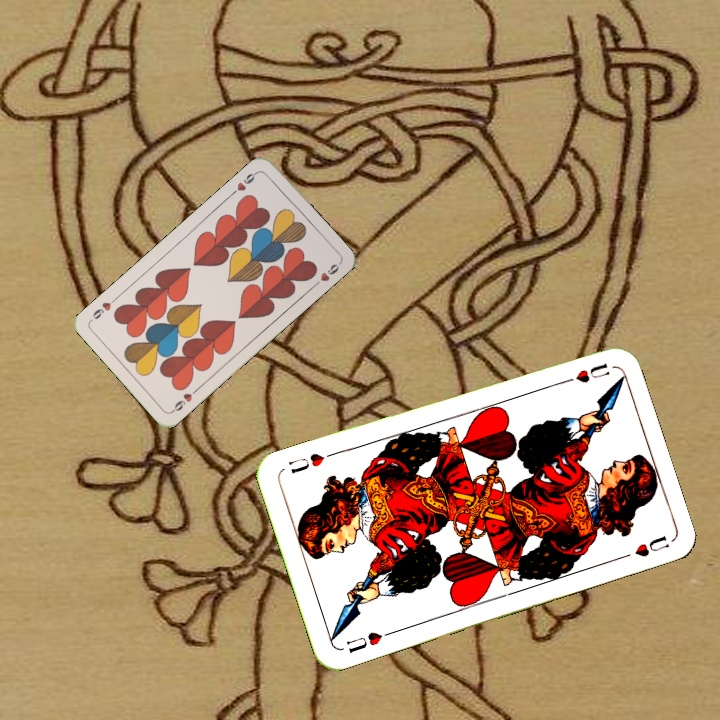H9: (227, 167, 261, 198), (168, 384, 201, 415)
HU: (556, 359, 612, 387), (342, 627, 395, 656)
